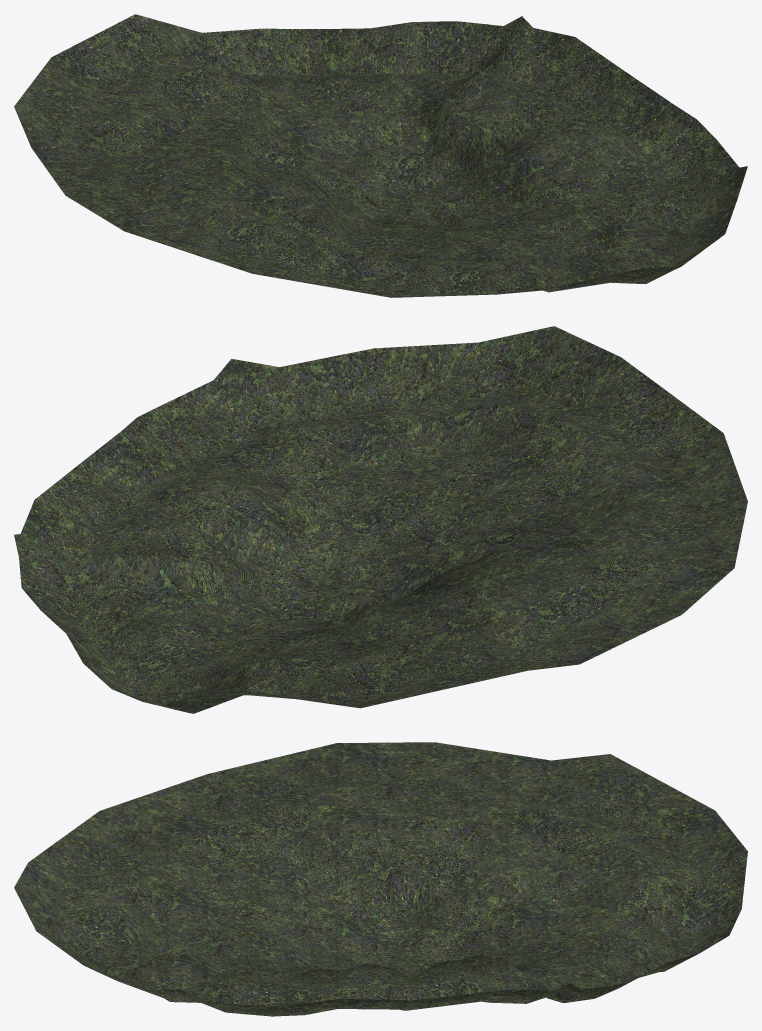
The model's file is cliff_dome_00.fbx.
The picture shows the model from 3 angles, top to bottom: view 1: azimuth 30°, elevation 25°; view 2: azimuth 150°, elevation 25°; view 3: azimuth 270°, elevation 25°; orthographic projection. The views are drawn at different scales.
Parts seen in each view (by area): view 1: cliff_dome_00; view 2: cliff_dome_00; view 3: cliff_dome_00.
Boxes of the visible parts, x1,y1,x2,y2 form: cliff_dome_00: [14, 14, 747, 297]; cliff_dome_00: [14, 326, 747, 713]; cliff_dome_00: [14, 742, 747, 1016].
Size of the model in its own units: 283 by 45.98 by 348.
